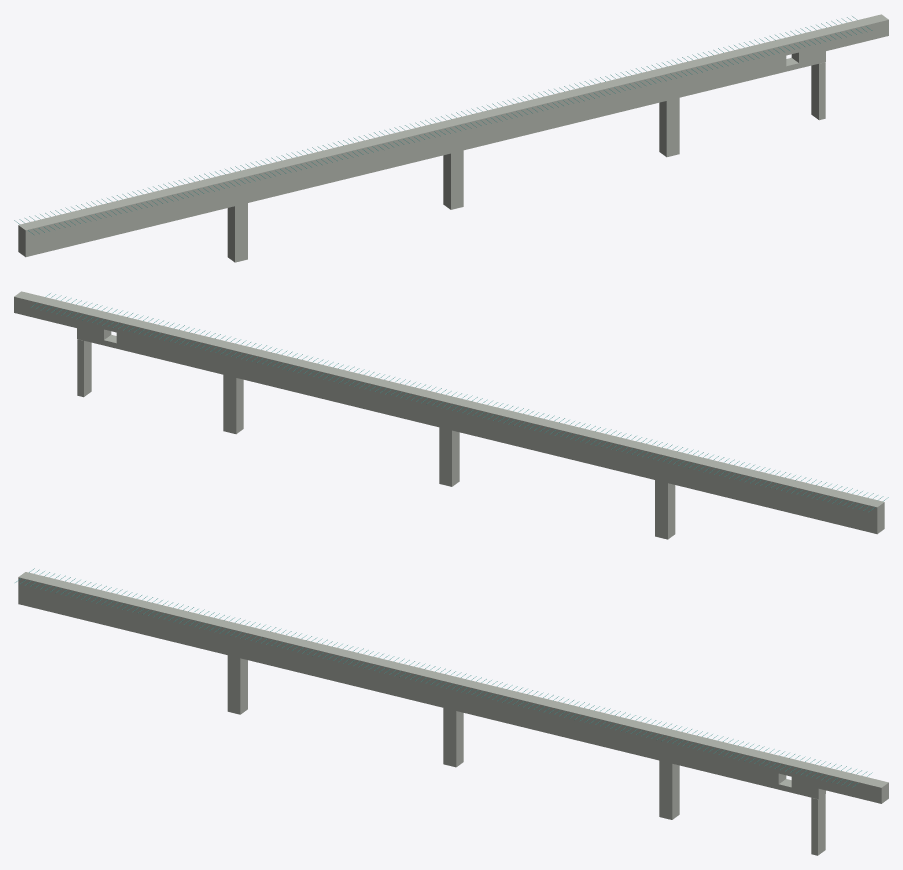
Rendered from unterzug-441-m5.glb.
3 views of the same model, one above another, from view 1: azimuth 30°, elevation 25°; view 2: azimuth 150°, elevation 25°; view 3: azimuth 330°, elevation 25° (orthographic).
Visible parts, largest first — view 1: Beton; view 2: Beton; view 3: Beton.
Part boxes in pixels (left/top/right/bottom): Beton: left=18, top=14, right=888, bottom=262; Beton: left=14, top=291, right=884, bottom=539; Beton: left=18, top=572, right=888, bottom=855.
Bounding box in the file's own units: 6.72 × 0.62 × 0.28.
